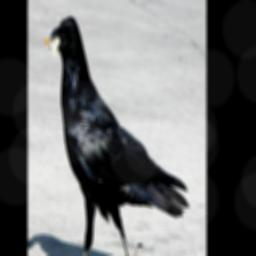Crow: (45, 16, 190, 256)
